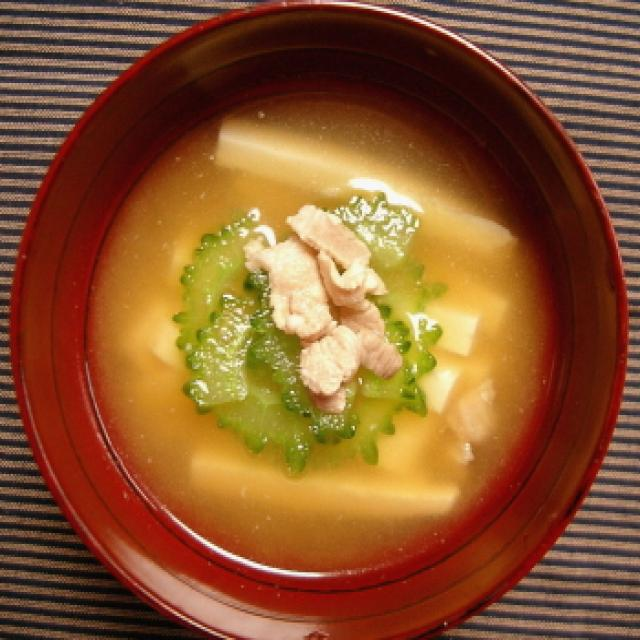汤锅炖物: (0, 0, 629, 640)
